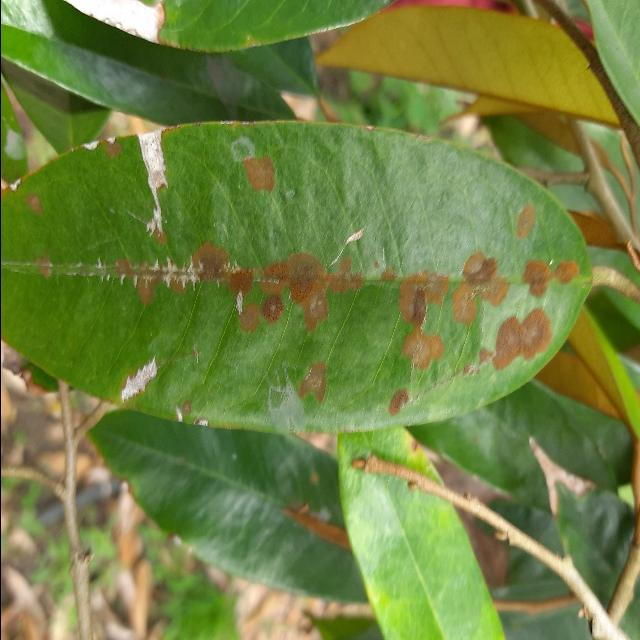Algal Leaf Spot: (0, 111, 603, 442)
